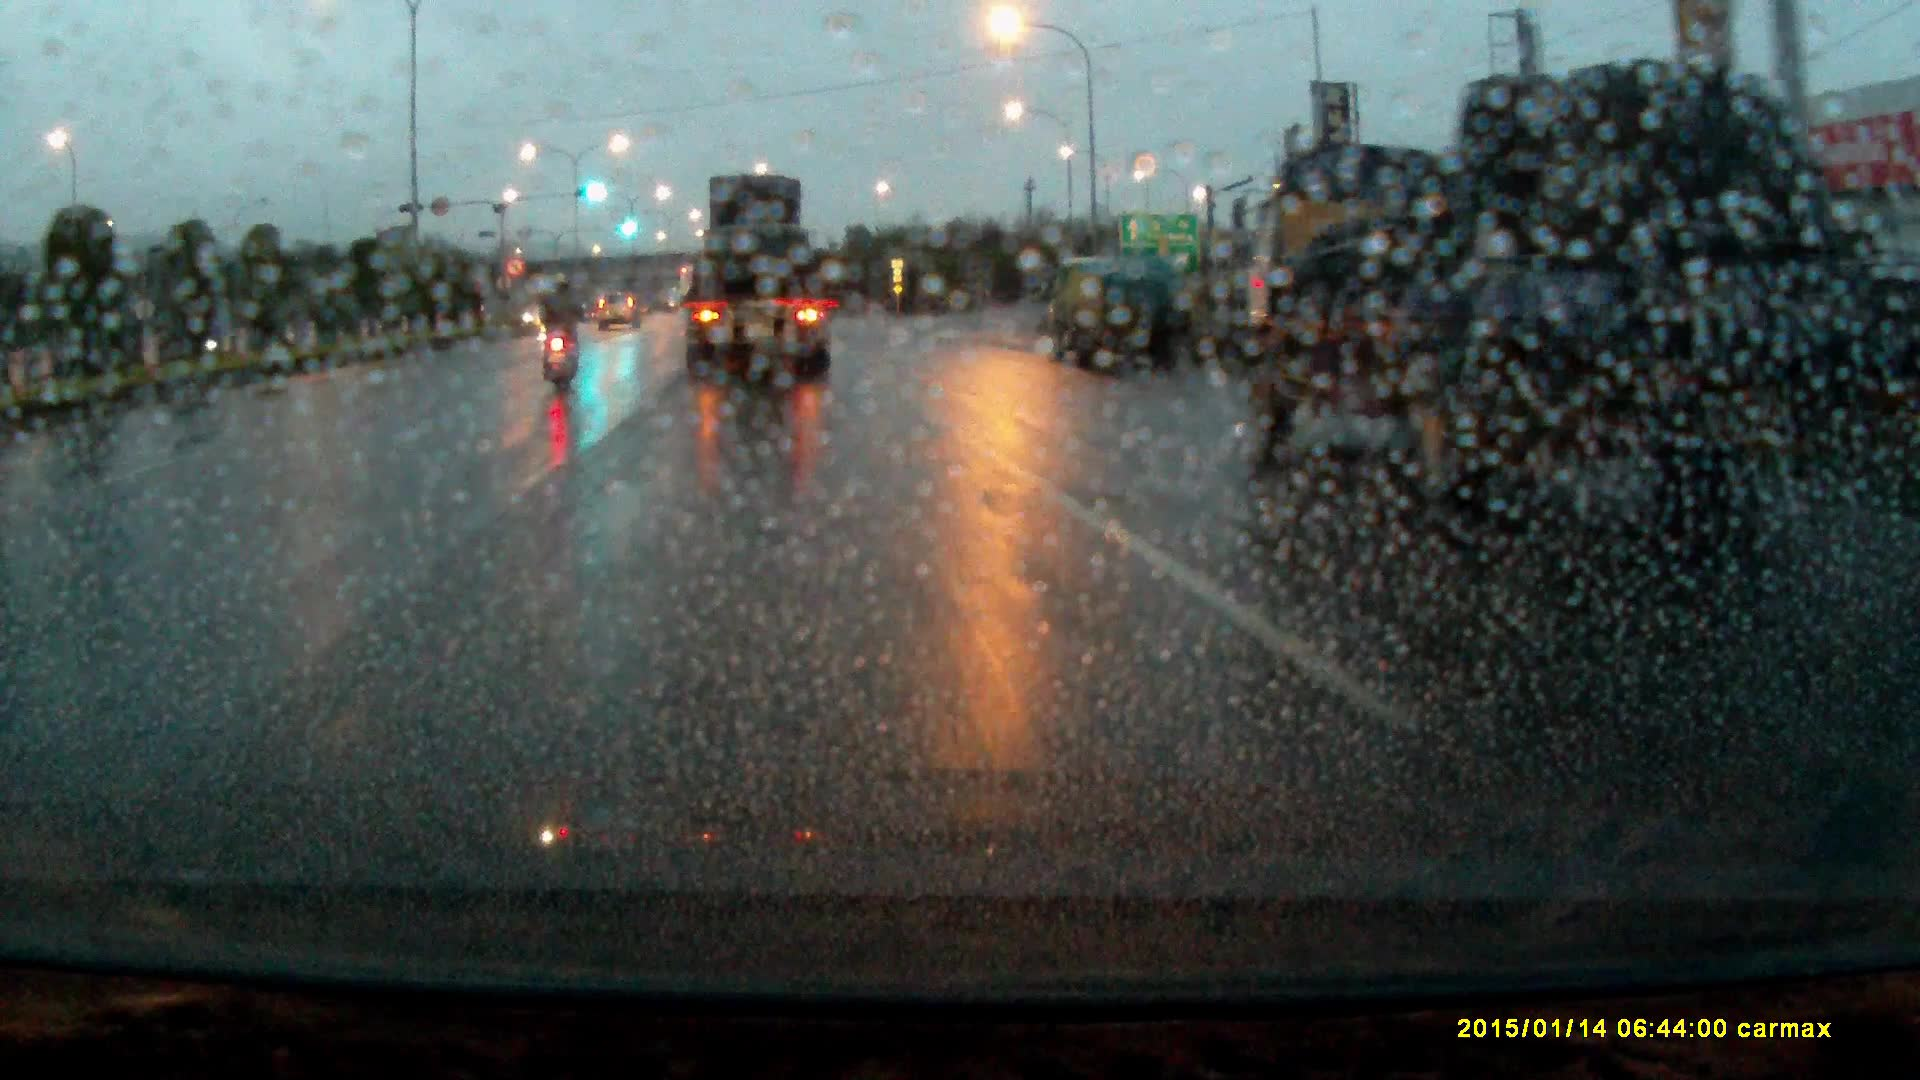rider: (537, 272, 589, 396)
vehicle: (1239, 74, 1888, 528), (677, 172, 835, 387), (1032, 259, 1194, 367), (599, 293, 644, 336)
